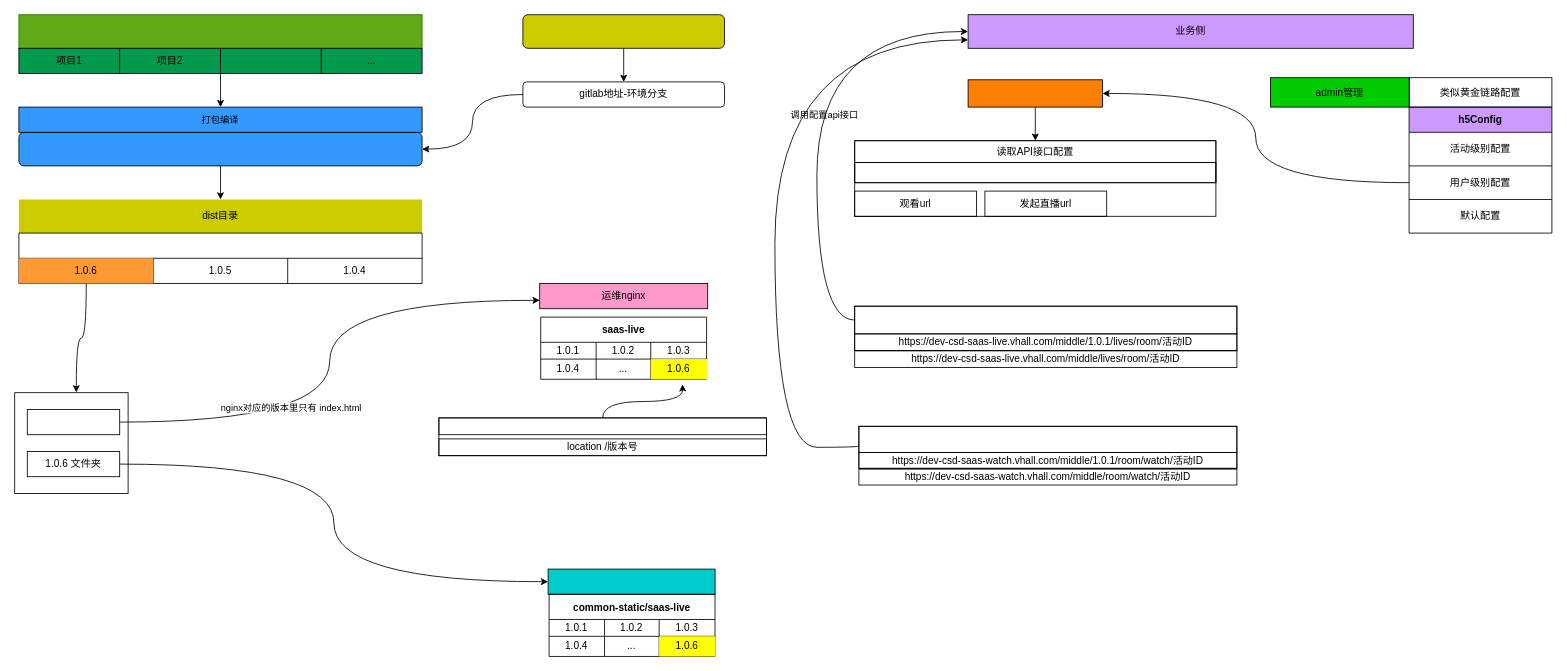
This 1567x671 diagram has some shape labels left out. Here are the shapes that lost their labels. From the top down, the centre of each, then its label:
At pixel 220 31: "前端项目工程".
At pixel 623 31: "运维jenkins 发布".
At pixel 270 60: "项目3".
At pixel 1034 93: "控制台".
At pixel 220 148: "node scripts/cli-service.js build --project=${项目} --mode=${环境}".
At pixel 1035 172: "http://wiki.vhallops.com/pages/viewpage.action?pageId=250413231".
At pixel 1045 319: "发起端浏览器-读取配置信息liveBaseUrl".
At pixel 73 422: "index.html".
At pixel 602 426: "location /".
At pixel 1047 438: "观看端浏览器-读取watchBaseUrl".
At pixel 631 581: "运维阿里云oss".
